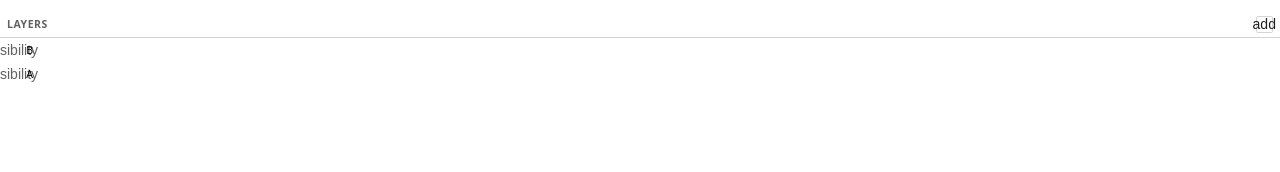
Test: LayerPanelComponent › prefills the rename input with the current layer name on double-click
Double-click the element showing "A" at coordinates (20, 74), box 7,67 -> 33,81
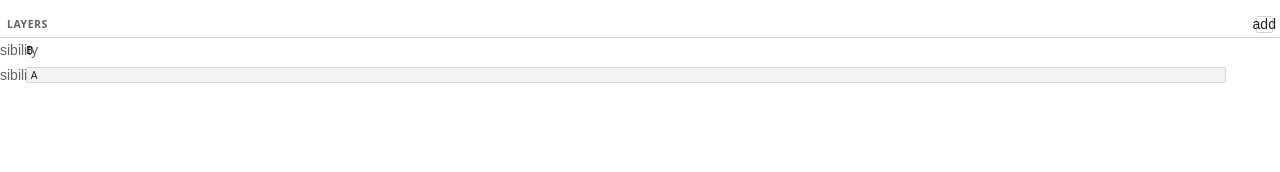
expect the field holds "A": met, box 26,67 -> 1226,83
